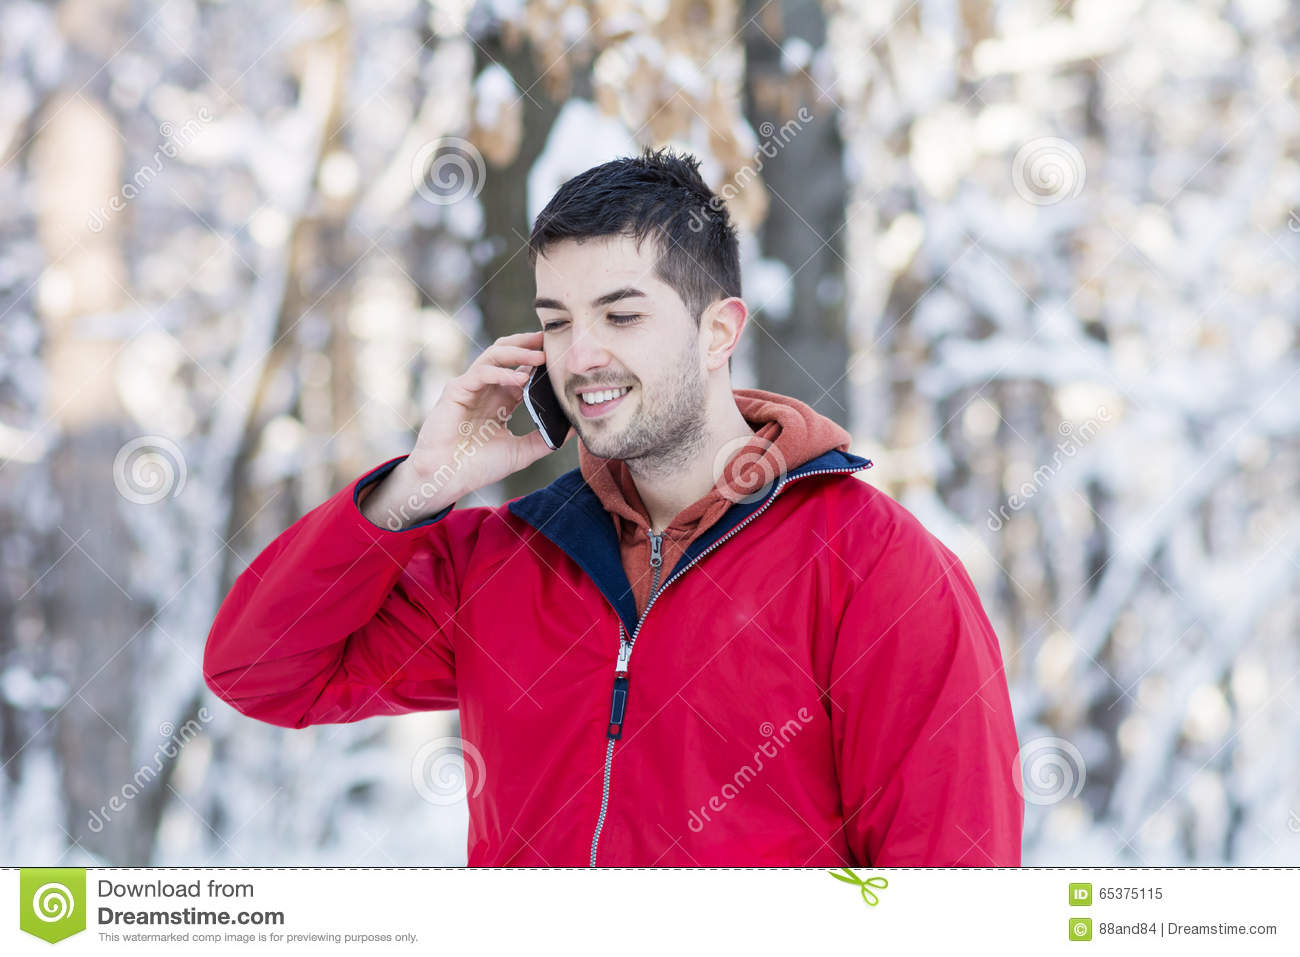phone: (524, 349, 574, 455)
talk: (410, 286, 678, 508)
